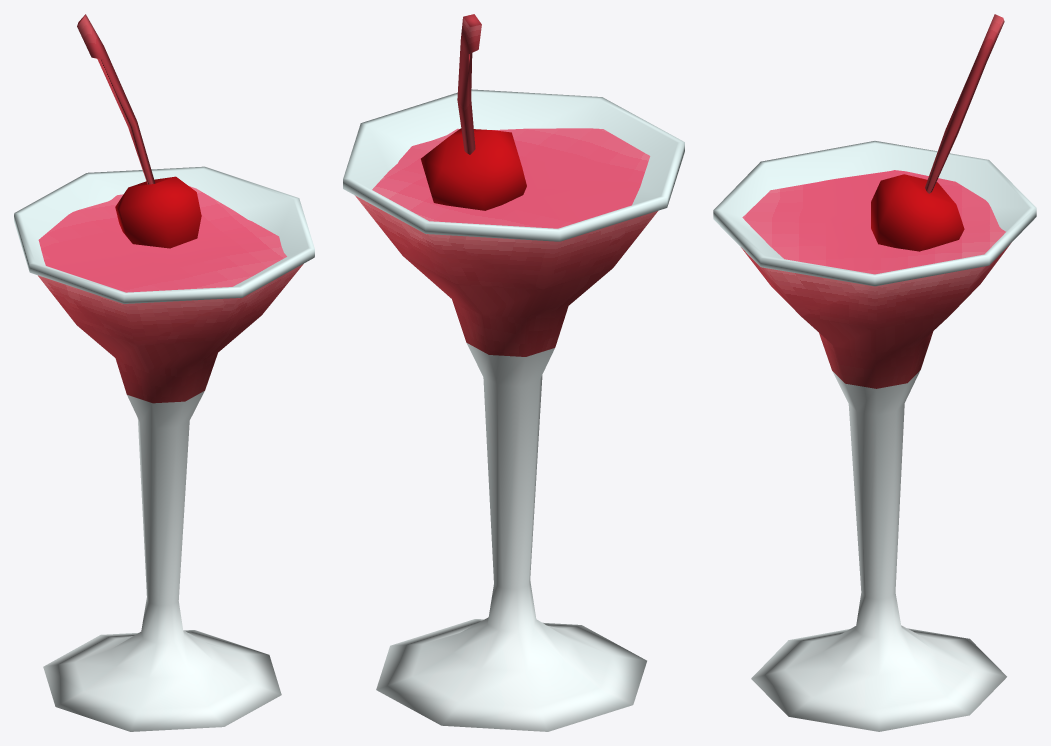
Rendered from H_CocktailGlass_Smoothie.fbx.
3 views of the same model, side by side, from view 1: azimuth 30°, elevation 25°; view 2: azimuth 150°, elevation 25°; view 3: azimuth 270°, elevation 25° (orthographic). The views are drawn at different scales.
Visible parts, largest first — view 1: LowballGlassLiquid.001; view 2: LowballGlassLiquid.001; view 3: LowballGlassLiquid.001.
Boxes of the visible parts, x1,y1,x2,y2 form: LowballGlassLiquid.001: [14, 14, 314, 731]; LowballGlassLiquid.001: [343, 14, 684, 731]; LowballGlassLiquid.001: [713, 14, 1036, 731].
Size of the model in its own units: 15.83 by 35.28 by 15.83.
